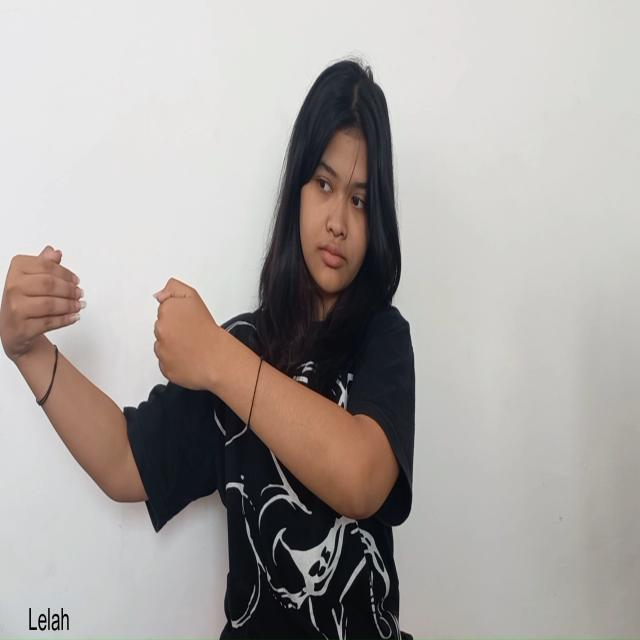Lelah -BISINDO-: (0, 242, 225, 398)
